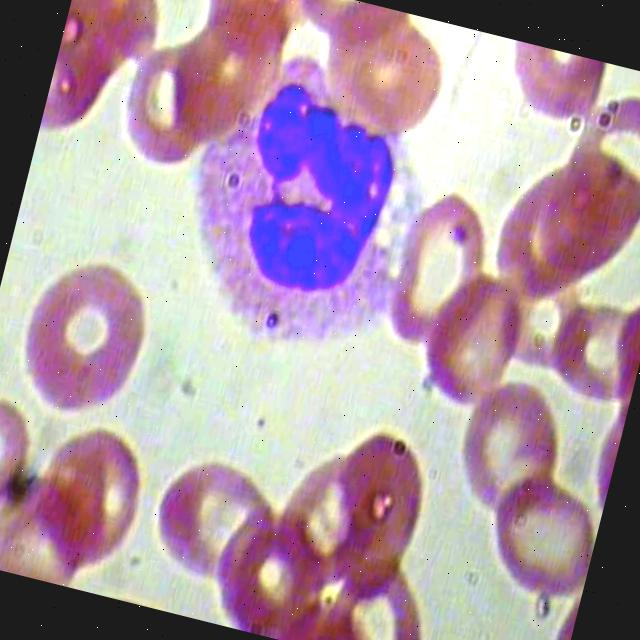RBC: (0, 228, 180, 434), (138, 444, 298, 598), (442, 370, 572, 529), (408, 264, 538, 422), (470, 464, 608, 612)
WBC: (150, 13, 482, 384)
